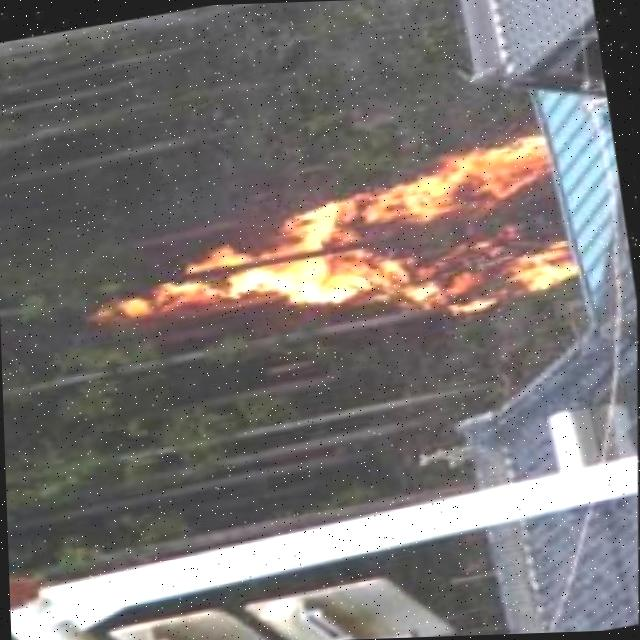fire: (132, 130, 584, 334)
